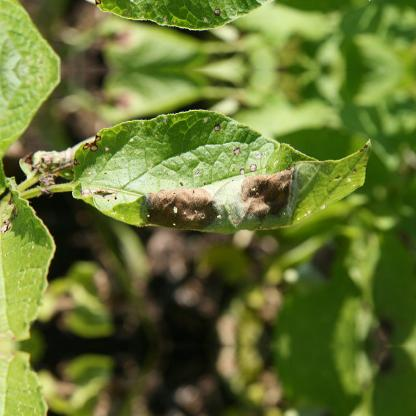Late-Blight: (58, 97, 380, 258), (58, 0, 379, 40)
